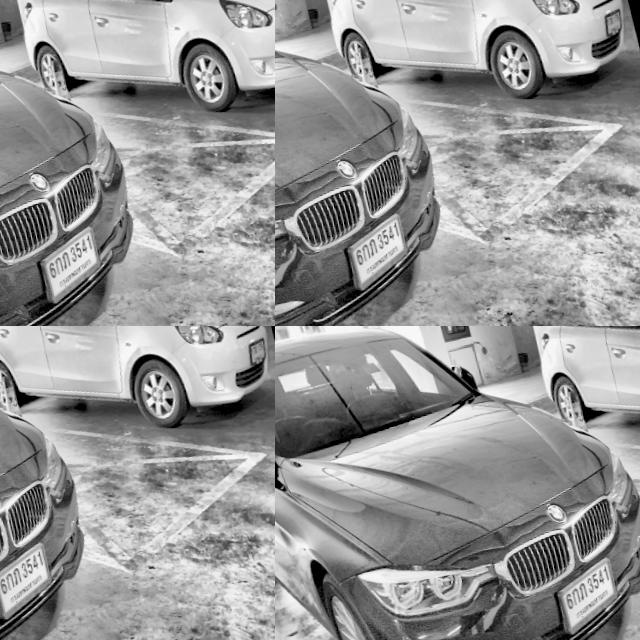license-plate: (545, 556, 622, 636)
